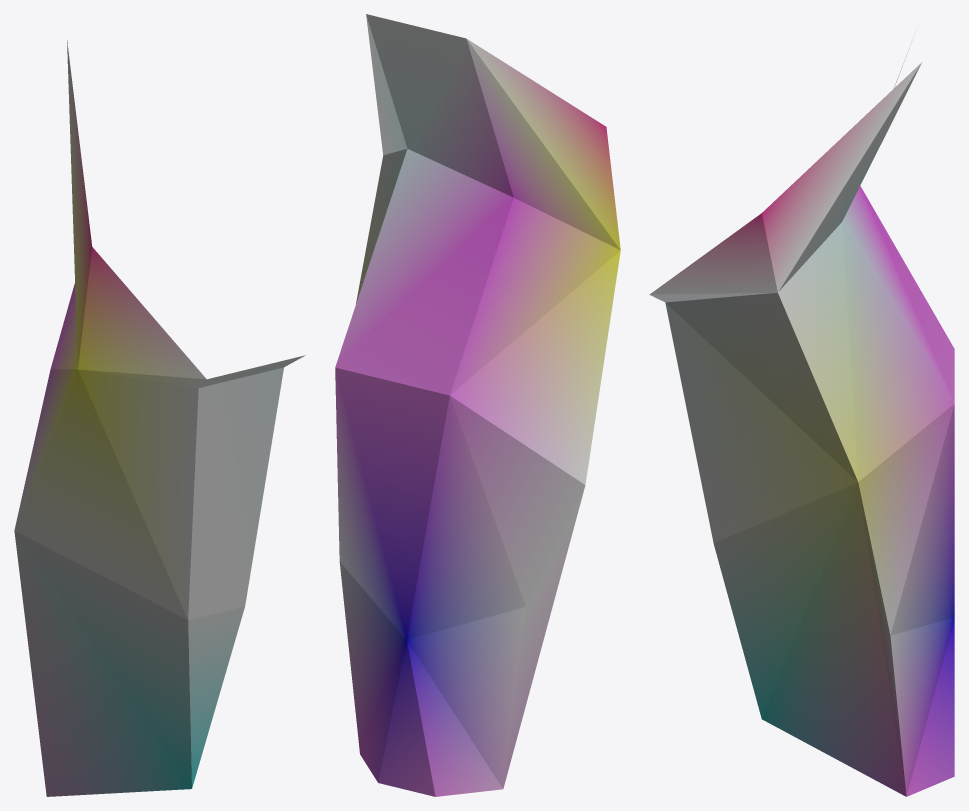
3 views of the same model, side by side, from view 1: azimuth 30°, elevation 25°; view 2: azimuth 150°, elevation 25°; view 3: azimuth 270°, elevation 25° (orthographic). The views are drawn at different scales.
Visible parts, largest first — view 1: model_1100; view 2: model_1100; view 3: model_1100.
Boxes of the visible parts, x1,y1,x2,y2 form: model_1100: [14, 40, 305, 796]; model_1100: [335, 14, 620, 796]; model_1100: [649, 48, 954, 796].
Bounding box in the file's own units: 17 × 50 × 19.
